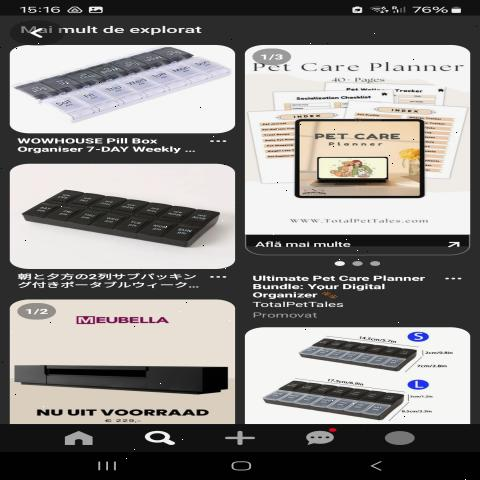PillBox: (13, 47, 234, 123), (20, 184, 223, 250), (260, 371, 428, 419), (300, 333, 429, 371)
